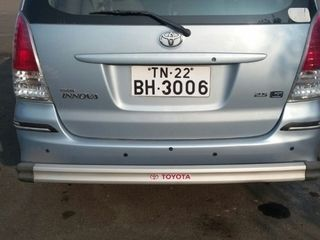T: (151, 66, 159, 77)
